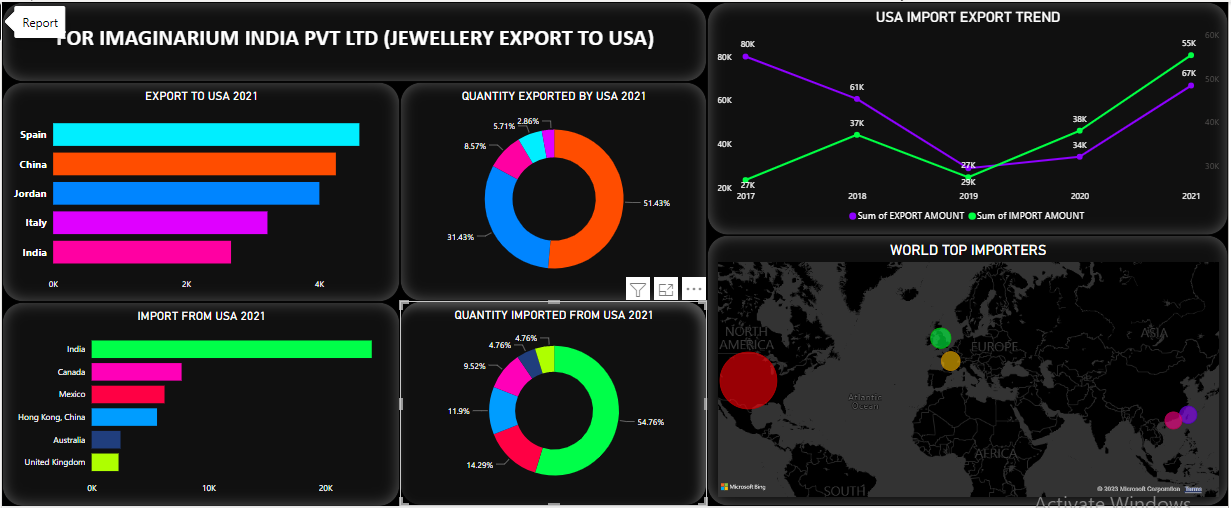

What the dashboard file says about the page in this screenshot:
{"tool":"powerbi","page":{"name":"Page 1","canvas":[1750,720],"ordinal":0},"visuals":[{"type":"donutChart","title":"QUANTITY EXPORTED BY USA 2021","fields":{"Category":["Exporters_to_USA.Exporters"],"Y":["Sum(Exporters_to_USA.Quantity imported in 2021)"]},"box":[568.2,113.6,438.3,313.3],"z":0},{"type":"barChart","title":"EXPORT TO USA 2021","fields":{"Category":["Supplying_Market_Yearly.Exporters"],"Y":["Sum(Supplying_Market_Yearly.Imported value in 2021)"]},"box":[0,114.2,568.1,314],"z":1000},{"type":"barChart","title":"IMPORT FROM USA 2021","fields":{"Category":["Importing_Market_Yearly.Importers"],"Y":["Sum(Importing_Market_Yearly.Exported value in 2021)"]},"box":[0,428.6,568.2,292.2],"z":2000},{"type":"donutChart","title":"QUANTITY IMPORTED FROM USA 2021","fields":{"Category":["Importers_of_USA.Importers"],"Y":["Sum(Importers_of_USA.Quantity exported in 2021)"]},"box":[568.2,426.9,438.3,292.2],"z":3000},{"type":"map","title":"WORLD TOP IMPORTERS","fields":{"Category":["World_Importers.Importers"],"Series":["World_Importers.Value imported in 2021 (USD thousand)"],"Size":["Sum(World_Importers.Value imported in 2021 (USD thousand))"]},"box":[1006.3,332.6,743.7,386.8],"z":4000},{"type":"lineChart","title":"USA IMPORT EXPORT TREND","fields":{"Y":["Sum(IMPORT_EXPORT_YEARWISE.EXPORT AMOUNT)"],"Category":["IMPORT_EXPORT_YEARWISE.YEARS"],"Y2":["Sum(IMPORT_EXPORT_YEARWISE.IMPORT AMOUNT)"]},"box":[1006.3,0,743.7,332.6],"z":5000},{"type":"textbox","box":[0,0,1006.3,114.2],"z":6000}]}

Visuals, with their boxes in screenshot pixels (x1, y1, x2, y2):
"QUANTITY EXPORTED BY USA 2021" donutChart: box(401, 79, 705, 296)
"EXPORT TO USA 2021" barChart: box(6, 79, 401, 297)
"IMPORT FROM USA 2021" barChart: box(6, 297, 401, 500)
"QUANTITY IMPORTED FROM USA 2021" donutChart: box(401, 296, 705, 499)
"WORLD TOP IMPORTERS" map: box(704, 231, 1220, 499)
"USA IMPORT EXPORT TREND" lineChart: box(704, 0, 1220, 231)
textbox: box(6, 0, 704, 79)
